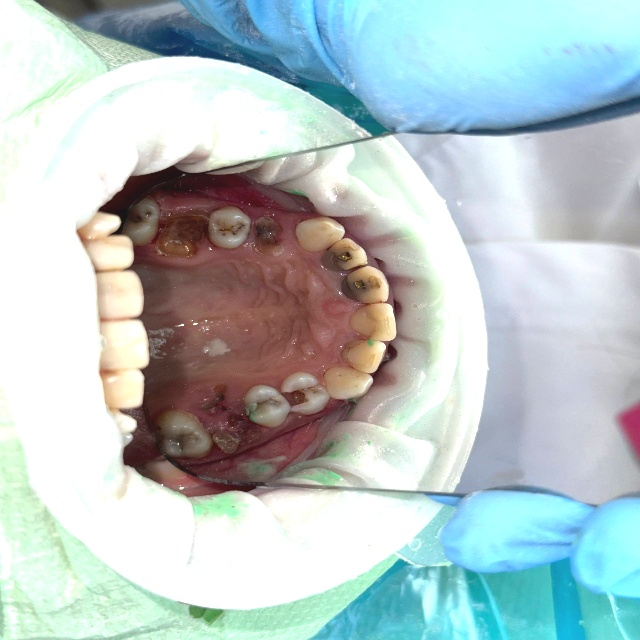clean_tooth: (98, 322, 148, 406), (94, 272, 142, 318), (306, 163, 348, 203), (84, 236, 132, 268), (260, 492, 299, 521), (82, 212, 119, 236)
plaque: (77, 0, 639, 132), (429, 476, 639, 597)
